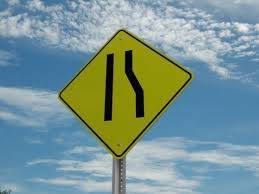laneEnds: (54, 27, 196, 161)
